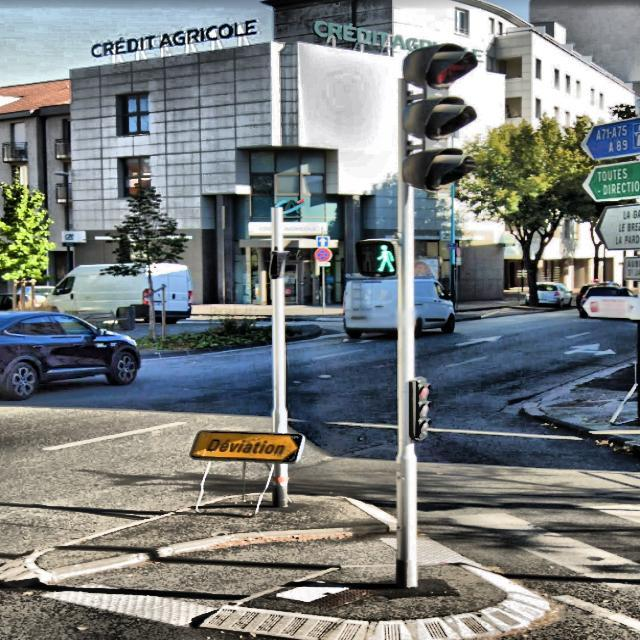green_light: (373, 242, 396, 273)
